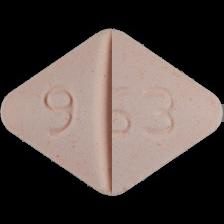55154-8275: (0, 0, 224, 224)
